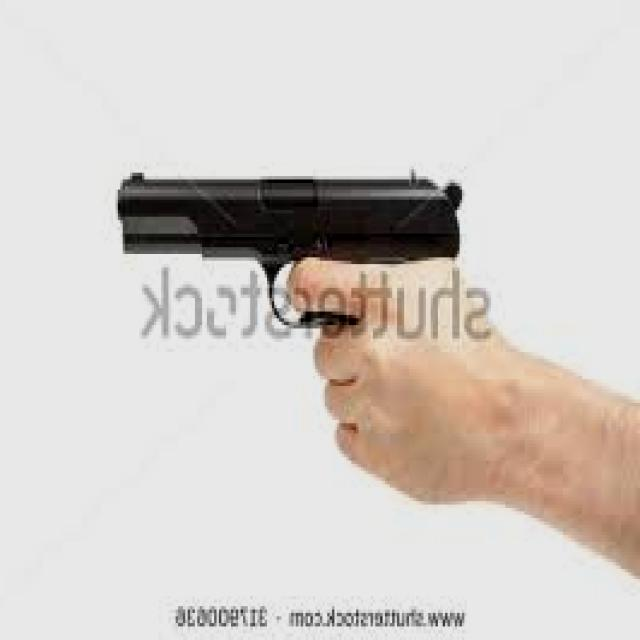pistol: (116, 169, 477, 349)
